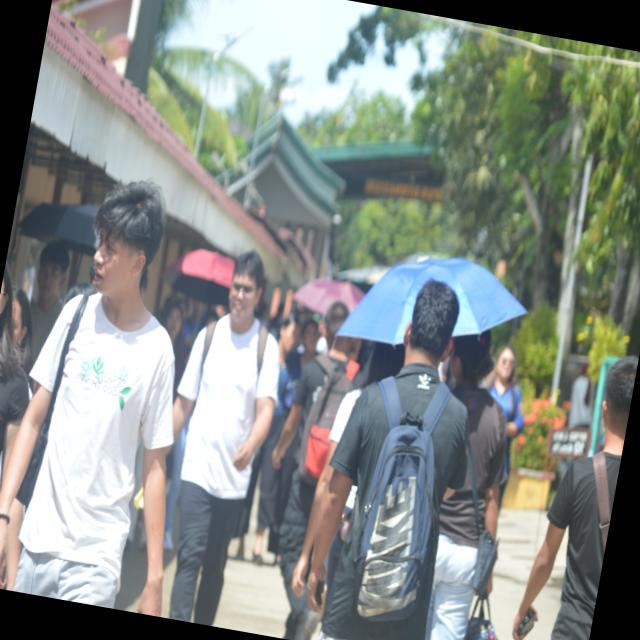person: (0, 181, 173, 616), (169, 251, 278, 625), (306, 385, 433, 639), (291, 342, 403, 595), (424, 331, 505, 639), (512, 458, 609, 639), (278, 458, 318, 639), (486, 344, 523, 504), (0, 264, 27, 466), (30, 242, 68, 362)
